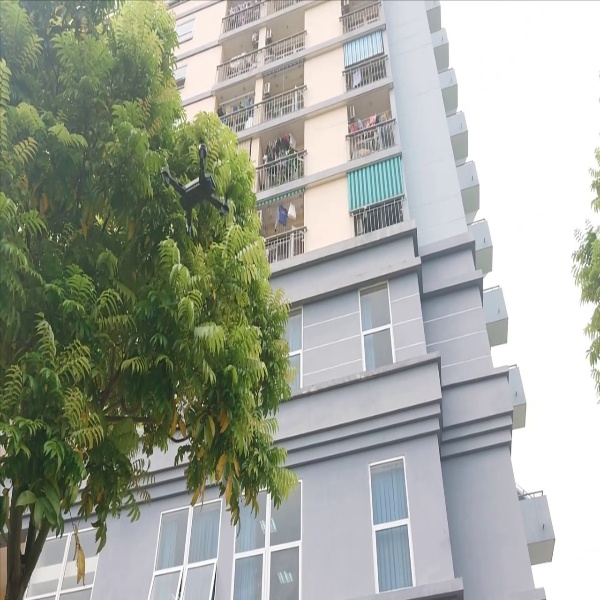drone: (155, 140, 241, 241)
